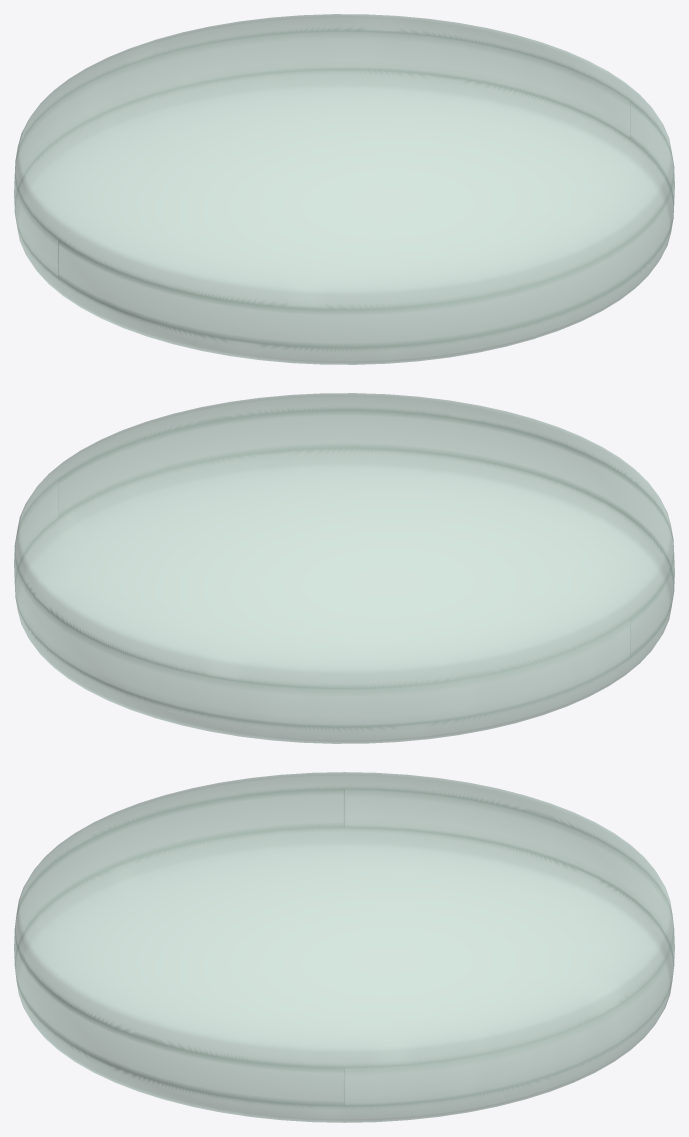
Rendered from B_Item.01.glb.
3 renders of one model, top to bottom at view 1: azimuth 30°, elevation 25°; view 2: azimuth 150°, elevation 25°; view 3: azimuth 270°, elevation 25°, orthographic.
Parts seen in each view (by area): view 1: B.Item.01; view 2: B.Item.01; view 3: B.Item.01.
Part boxes in pixels (x1=…): B.Item.01: x1=14, y1=14, x2=674, y2=364; B.Item.01: x1=14, y1=393, x2=674, y2=743; B.Item.01: x1=14, y1=772, x2=674, y2=1122.
Size of the model in its own units: 0.1563 by 0.02 by 0.1563.
1 material, 1 textured.
